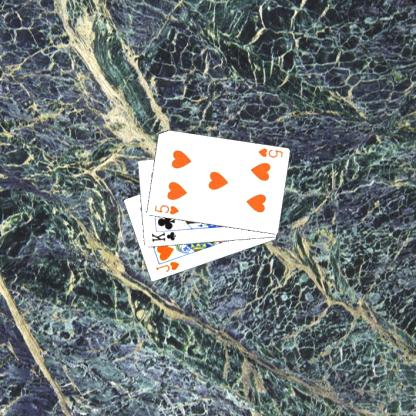5H: (152, 202, 180, 216), (255, 146, 284, 159)
JH: (153, 259, 180, 273)
KC: (149, 227, 179, 243)
